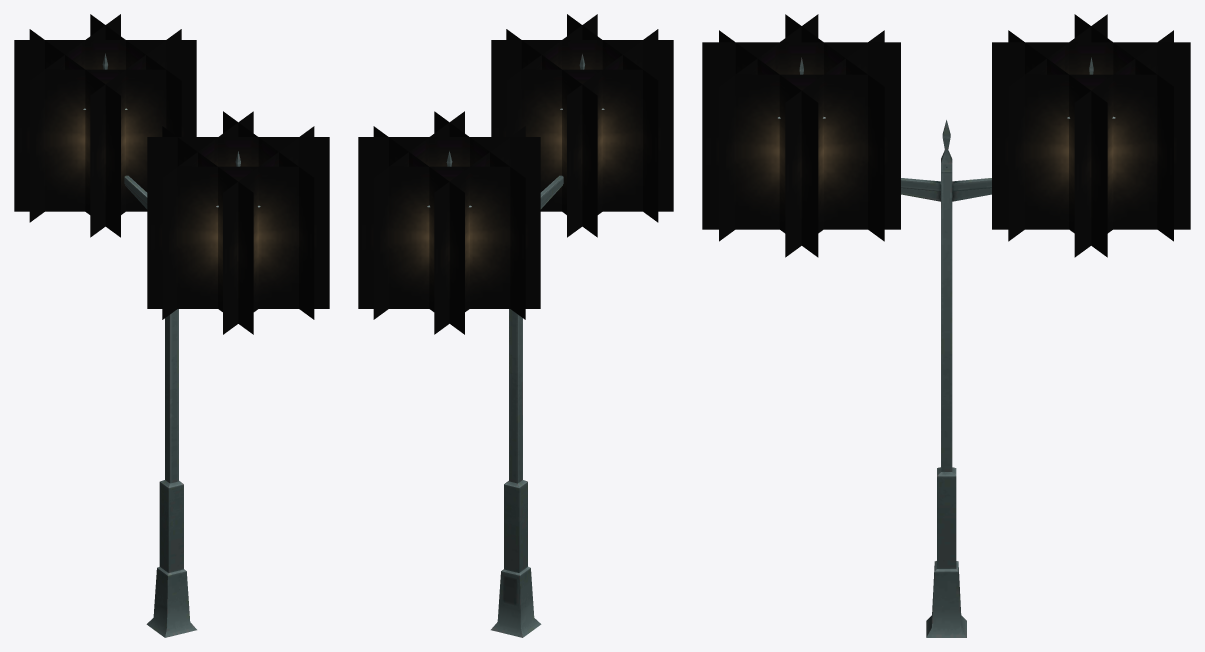
File: tok_prop_break_post_light_ginza.fbx
3 renders of one model, left to right at view 1: azimuth 30°, elevation 25°; view 2: azimuth 150°, elevation 25°; view 3: azimuth 270°, elevation 25°, orthographic. The views are drawn at different scales.
Visible parts, largest first — view 1: LightGinza_01_Glows_LOD1, LightGinza_01_Main_Light_LOD1; view 2: LightGinza_01_Glows_LOD1, LightGinza_01_Main_Light_LOD1; view 3: LightGinza_01_Glows_LOD1, LightGinza_01_Main_Light_LOD1.
Boxes of the visible parts, box(x1,y1,x2,y2) form: LightGinza_01_Glows_LOD1: box(14, 14, 329, 334); LightGinza_01_Main_Light_LOD1: box(83, 53, 260, 637); LightGinza_01_Glows_LOD1: box(358, 14, 673, 334); LightGinza_01_Main_Light_LOD1: box(427, 54, 604, 637); LightGinza_01_Glows_LOD1: box(702, 14, 1190, 257); LightGinza_01_Main_Light_LOD1: box(778, 57, 1115, 637).
Size of the model in its own units: 3.03 by 7.03 by 9.1.
